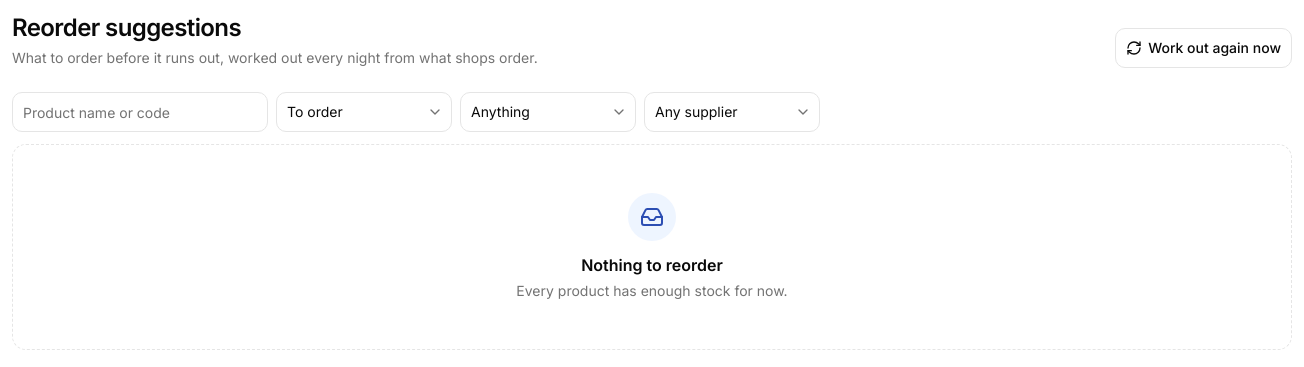
it: SuggestionsPage › lists products below their reorder level that aren't selling, apart
Expected: the heading "Nothing to reorder" is shown, [581,255,723,275]
Click the dropdown named "Show" at (364, 112), box [276,92,452,132]
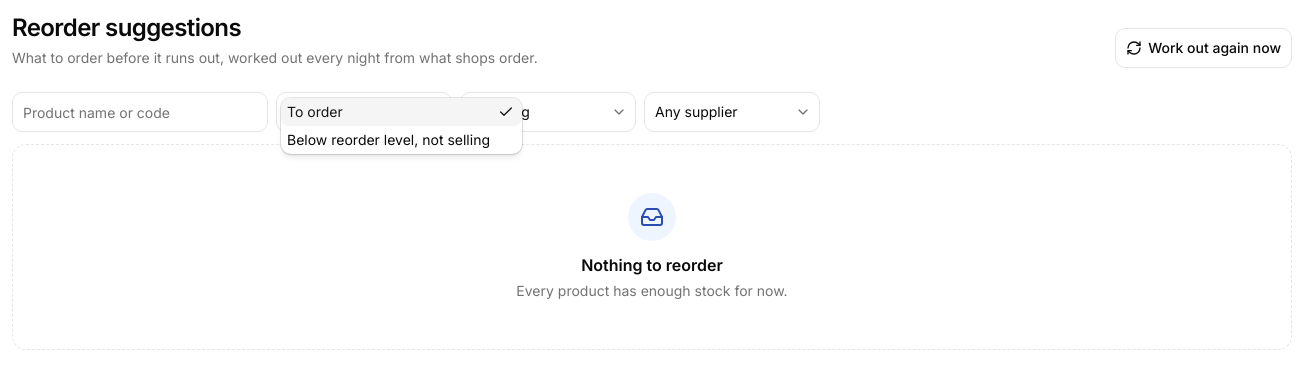
Click the option "Below reorder level, not selling" at (388, 140), box [287,131,490,148]
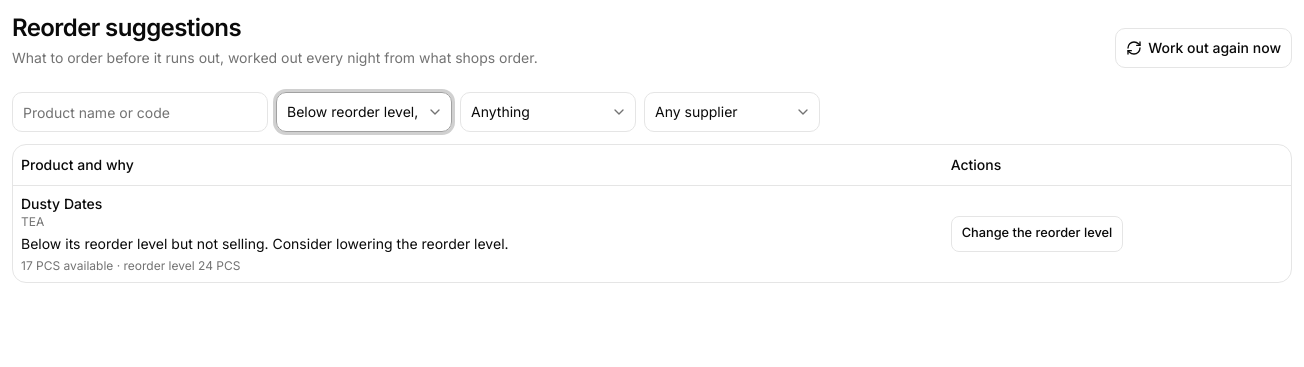
Now the text "Below its reorder level but not selling. Consider lowering the reorder level." is shown, box [21,234,509,252]
Now the text "17 PCS available · reorder level 24 PCS" is shown, box [21,258,240,272]
